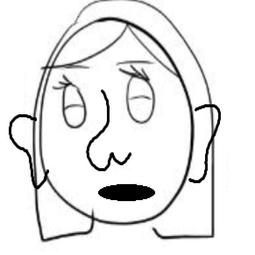eye: (119, 66, 159, 127), (48, 77, 90, 131)
eyebrow: (115, 59, 156, 66), (64, 64, 94, 72)
large_ear: (4, 107, 51, 189), (179, 101, 222, 187)
large_nose: (84, 89, 134, 177)
open_mouth: (97, 178, 159, 205)
